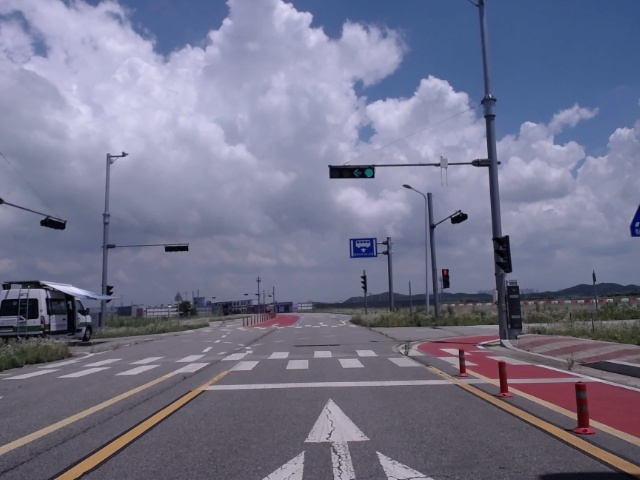all_green_4: (329, 166, 376, 179)
